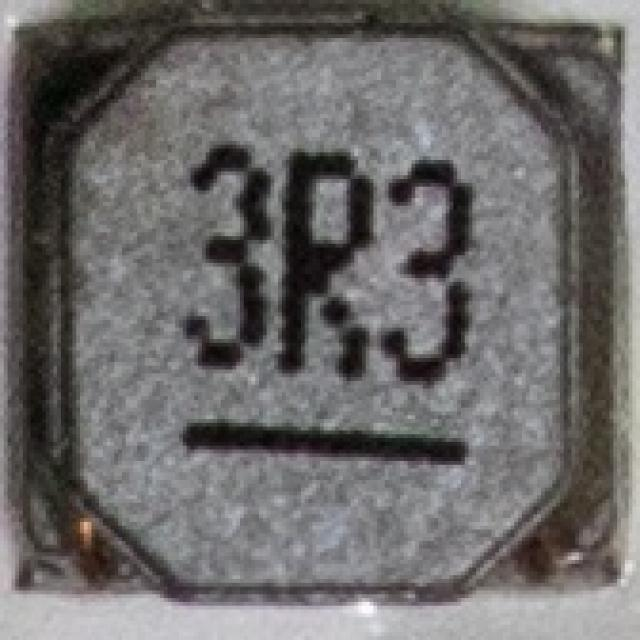inductor F1: (30, 21, 627, 626)
